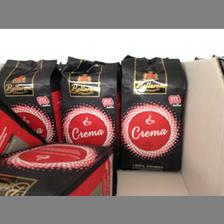Kaffee: (118, 55, 182, 172), (0, 143, 116, 195), (60, 55, 116, 146), (0, 58, 56, 141)
